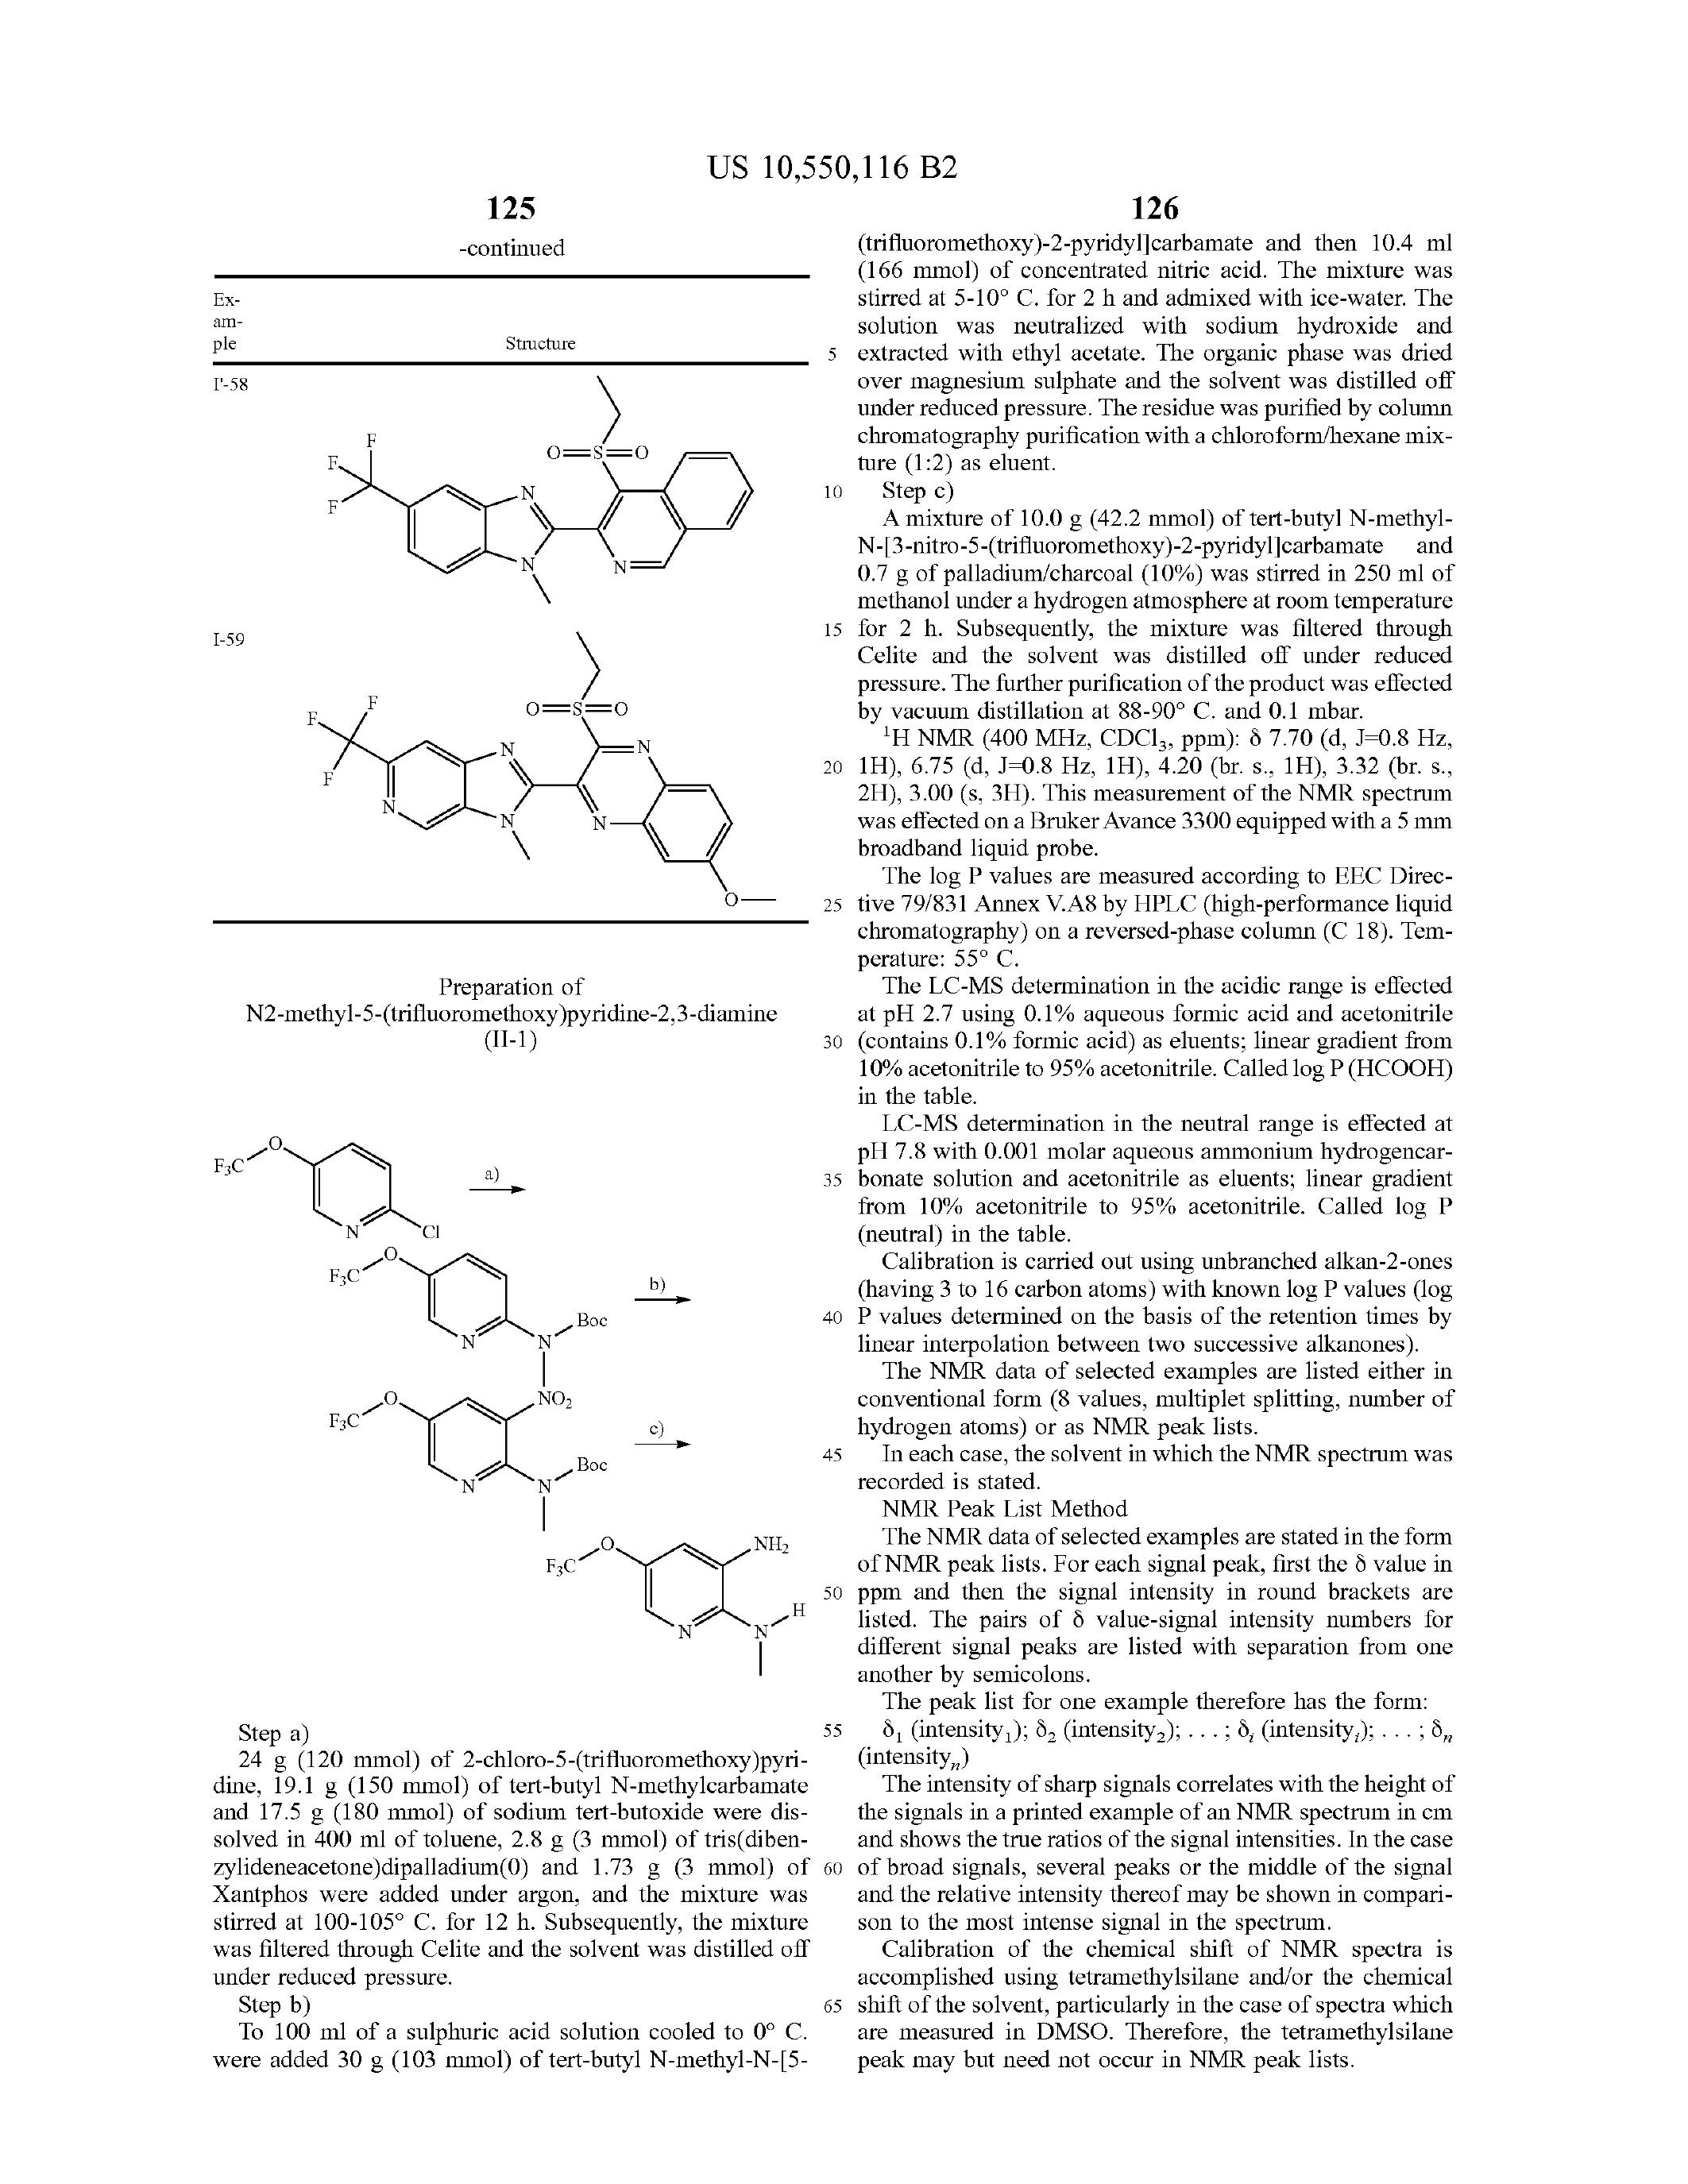reactions: (184, 1092, 812, 1707)
relevant-structures: (296, 635, 807, 895), (305, 378, 787, 612)
